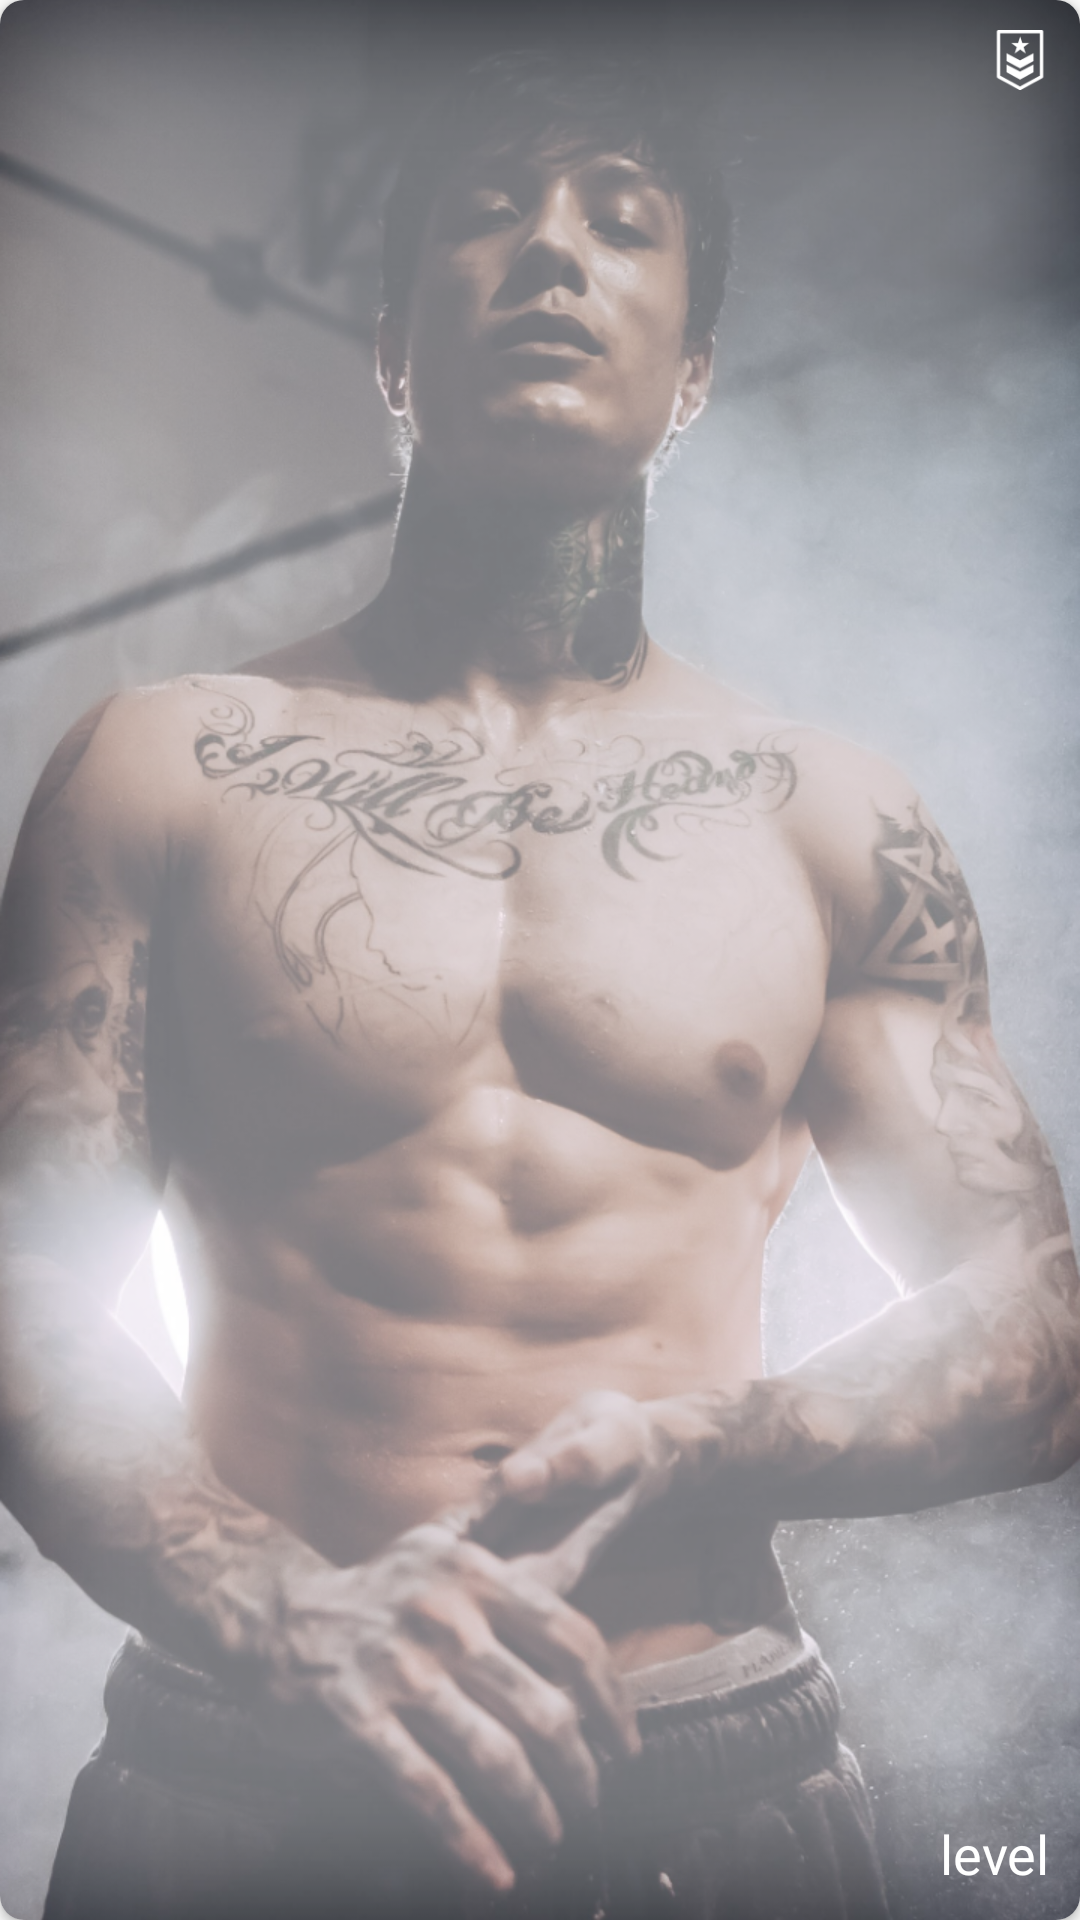

Icons on this 1080 x 1920 Android screen, each with the point to tap as (x,y):
rank: (1020,60)
